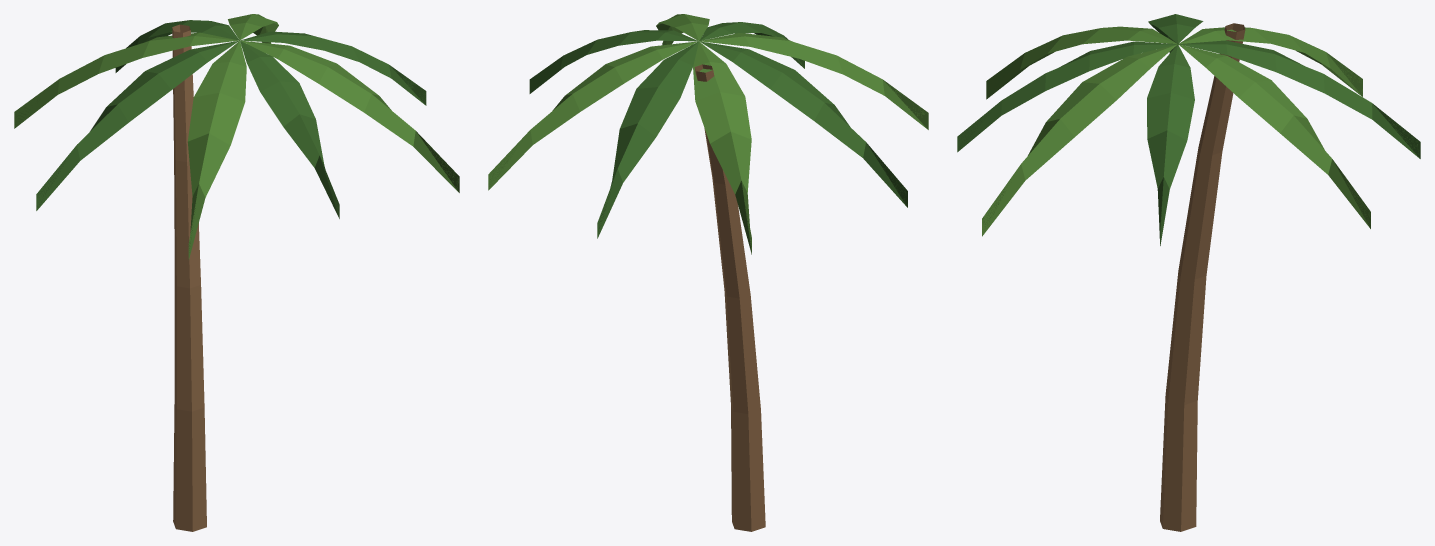
The model's file is palm_a.glb.
3 renders of one model, left to right at view 1: azimuth 30°, elevation 25°; view 2: azimuth 150°, elevation 25°; view 3: azimuth 270°, elevation 25°, orthographic. The views are drawn at different scales.
Visible parts, largest first — view 1: palm_a; view 2: palm_a; view 3: palm_a.
Part boxes in pixels (x1,y1,x2,y2): palm_a: (14,14,459,531); palm_a: (488,14,928,531); palm_a: (957,14,1420,531).
Bounding box in the file's own units: 7.68 × 9 × 7.47.
